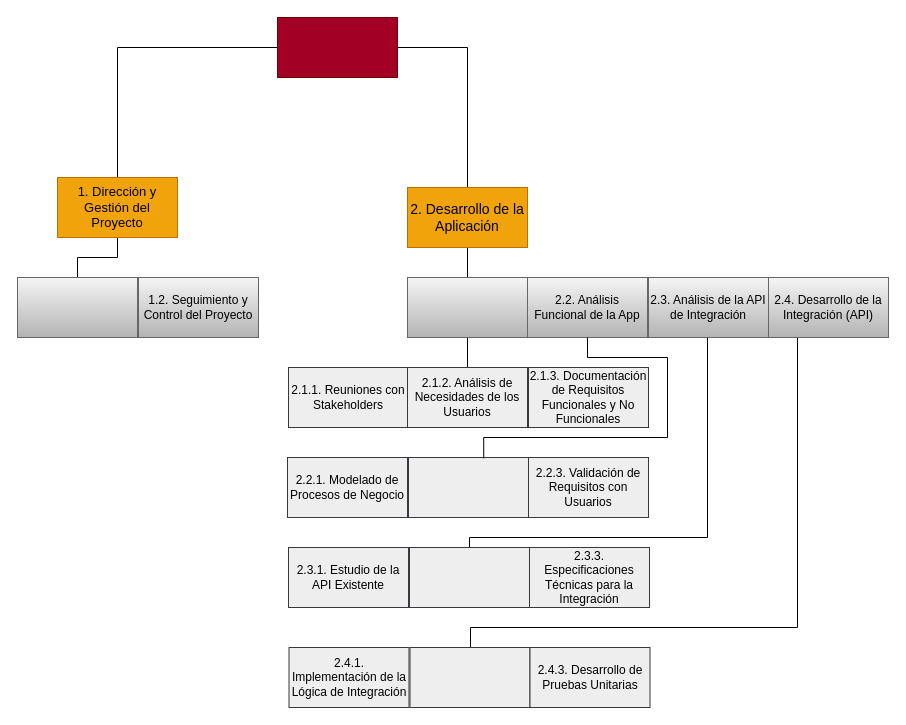
This 906x725 diagram has some shape labels left out. The box of each missing label's shape, as (x1, y1, x2, y2) in pixels:
1.1. Planificación del Proyecto: (16, 276, 138, 338)
2.1. Definición de Requisitos de la App: (406, 276, 528, 338)
2.2.2. Creación de Prototipos Funcionales: (408, 456, 528, 518)
2.3.2. Definición de Puntos de Integración: (408, 546, 530, 608)
2.4.2. Configuración del Entorno de Desarrollo: (409, 646, 530, 708)
Proyecto Residencia: (276, 16, 398, 78)
